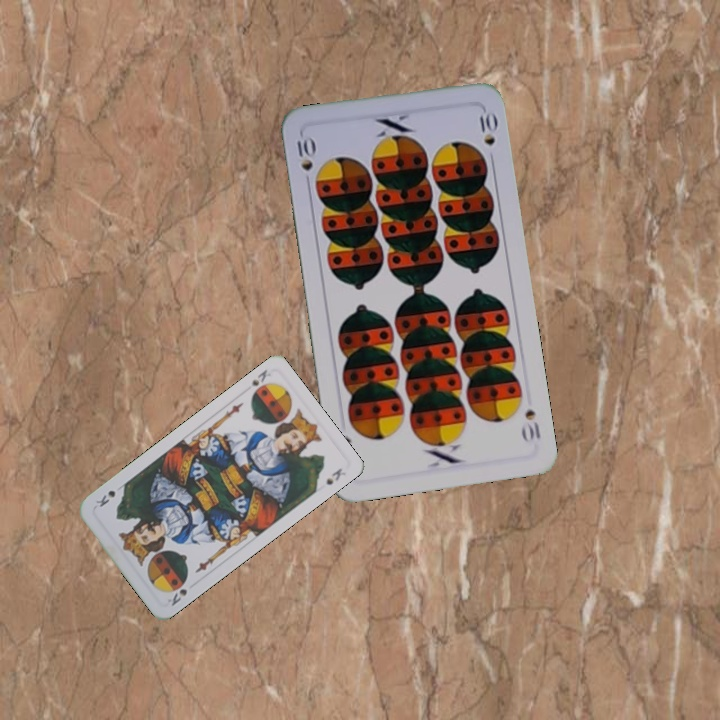S10: (293, 132, 316, 190), (518, 405, 543, 445)
SK: (247, 365, 274, 399), (163, 585, 190, 609)
